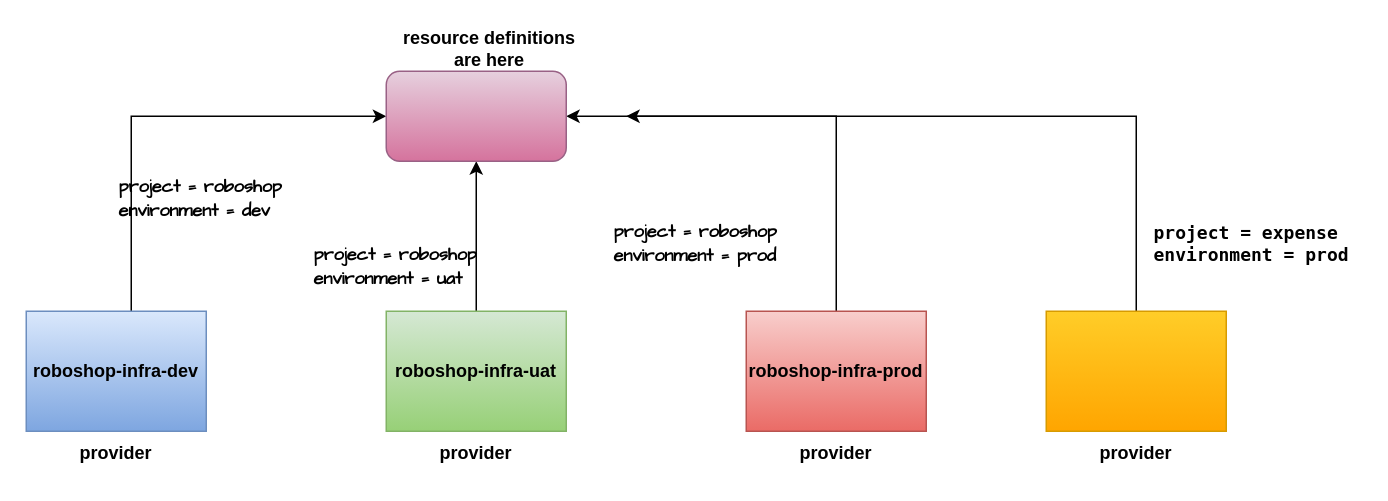
Image size: 1388x501. Some labels were removed from this diagram. Here are the shapes that lost their labels. From the top down, the centre of each, then its label:
point (475, 115): terraform-aws-instance
point (1135, 370): expense-infra-prod
